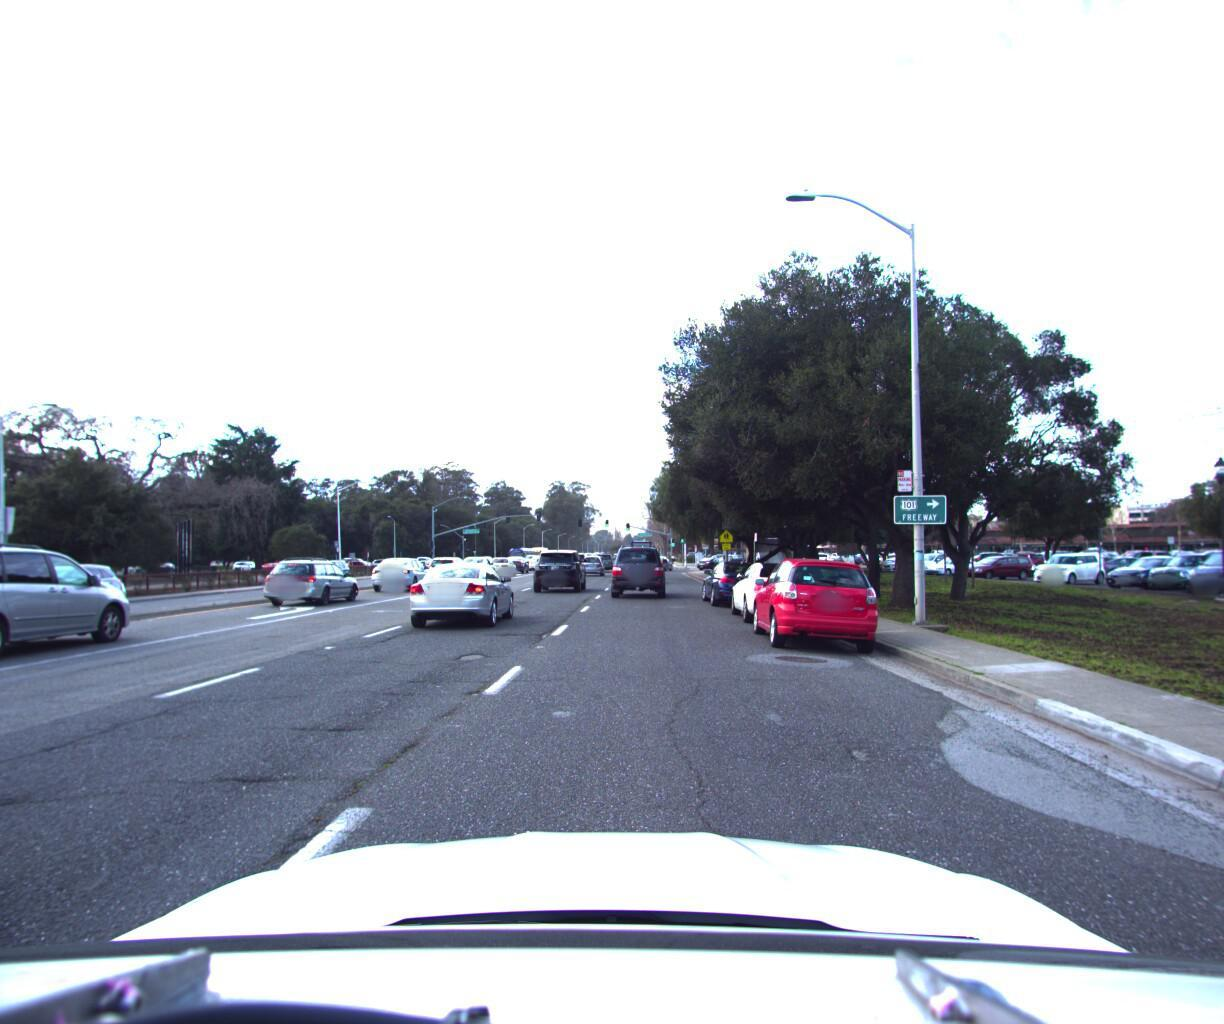car: (742, 551, 891, 654), (402, 556, 521, 628), (725, 555, 828, 627), (259, 552, 365, 609), (698, 553, 775, 606), (610, 536, 665, 596), (367, 553, 437, 590), (532, 543, 586, 590), (424, 551, 475, 581), (458, 550, 499, 575), (485, 549, 519, 571), (693, 550, 732, 565), (579, 549, 606, 570), (501, 550, 529, 568), (590, 546, 613, 566), (524, 550, 548, 566)
